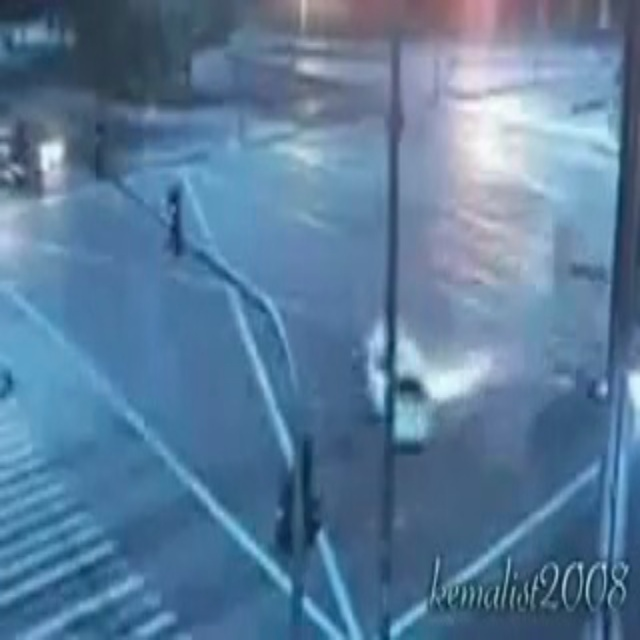acc: (330, 280, 574, 434)
